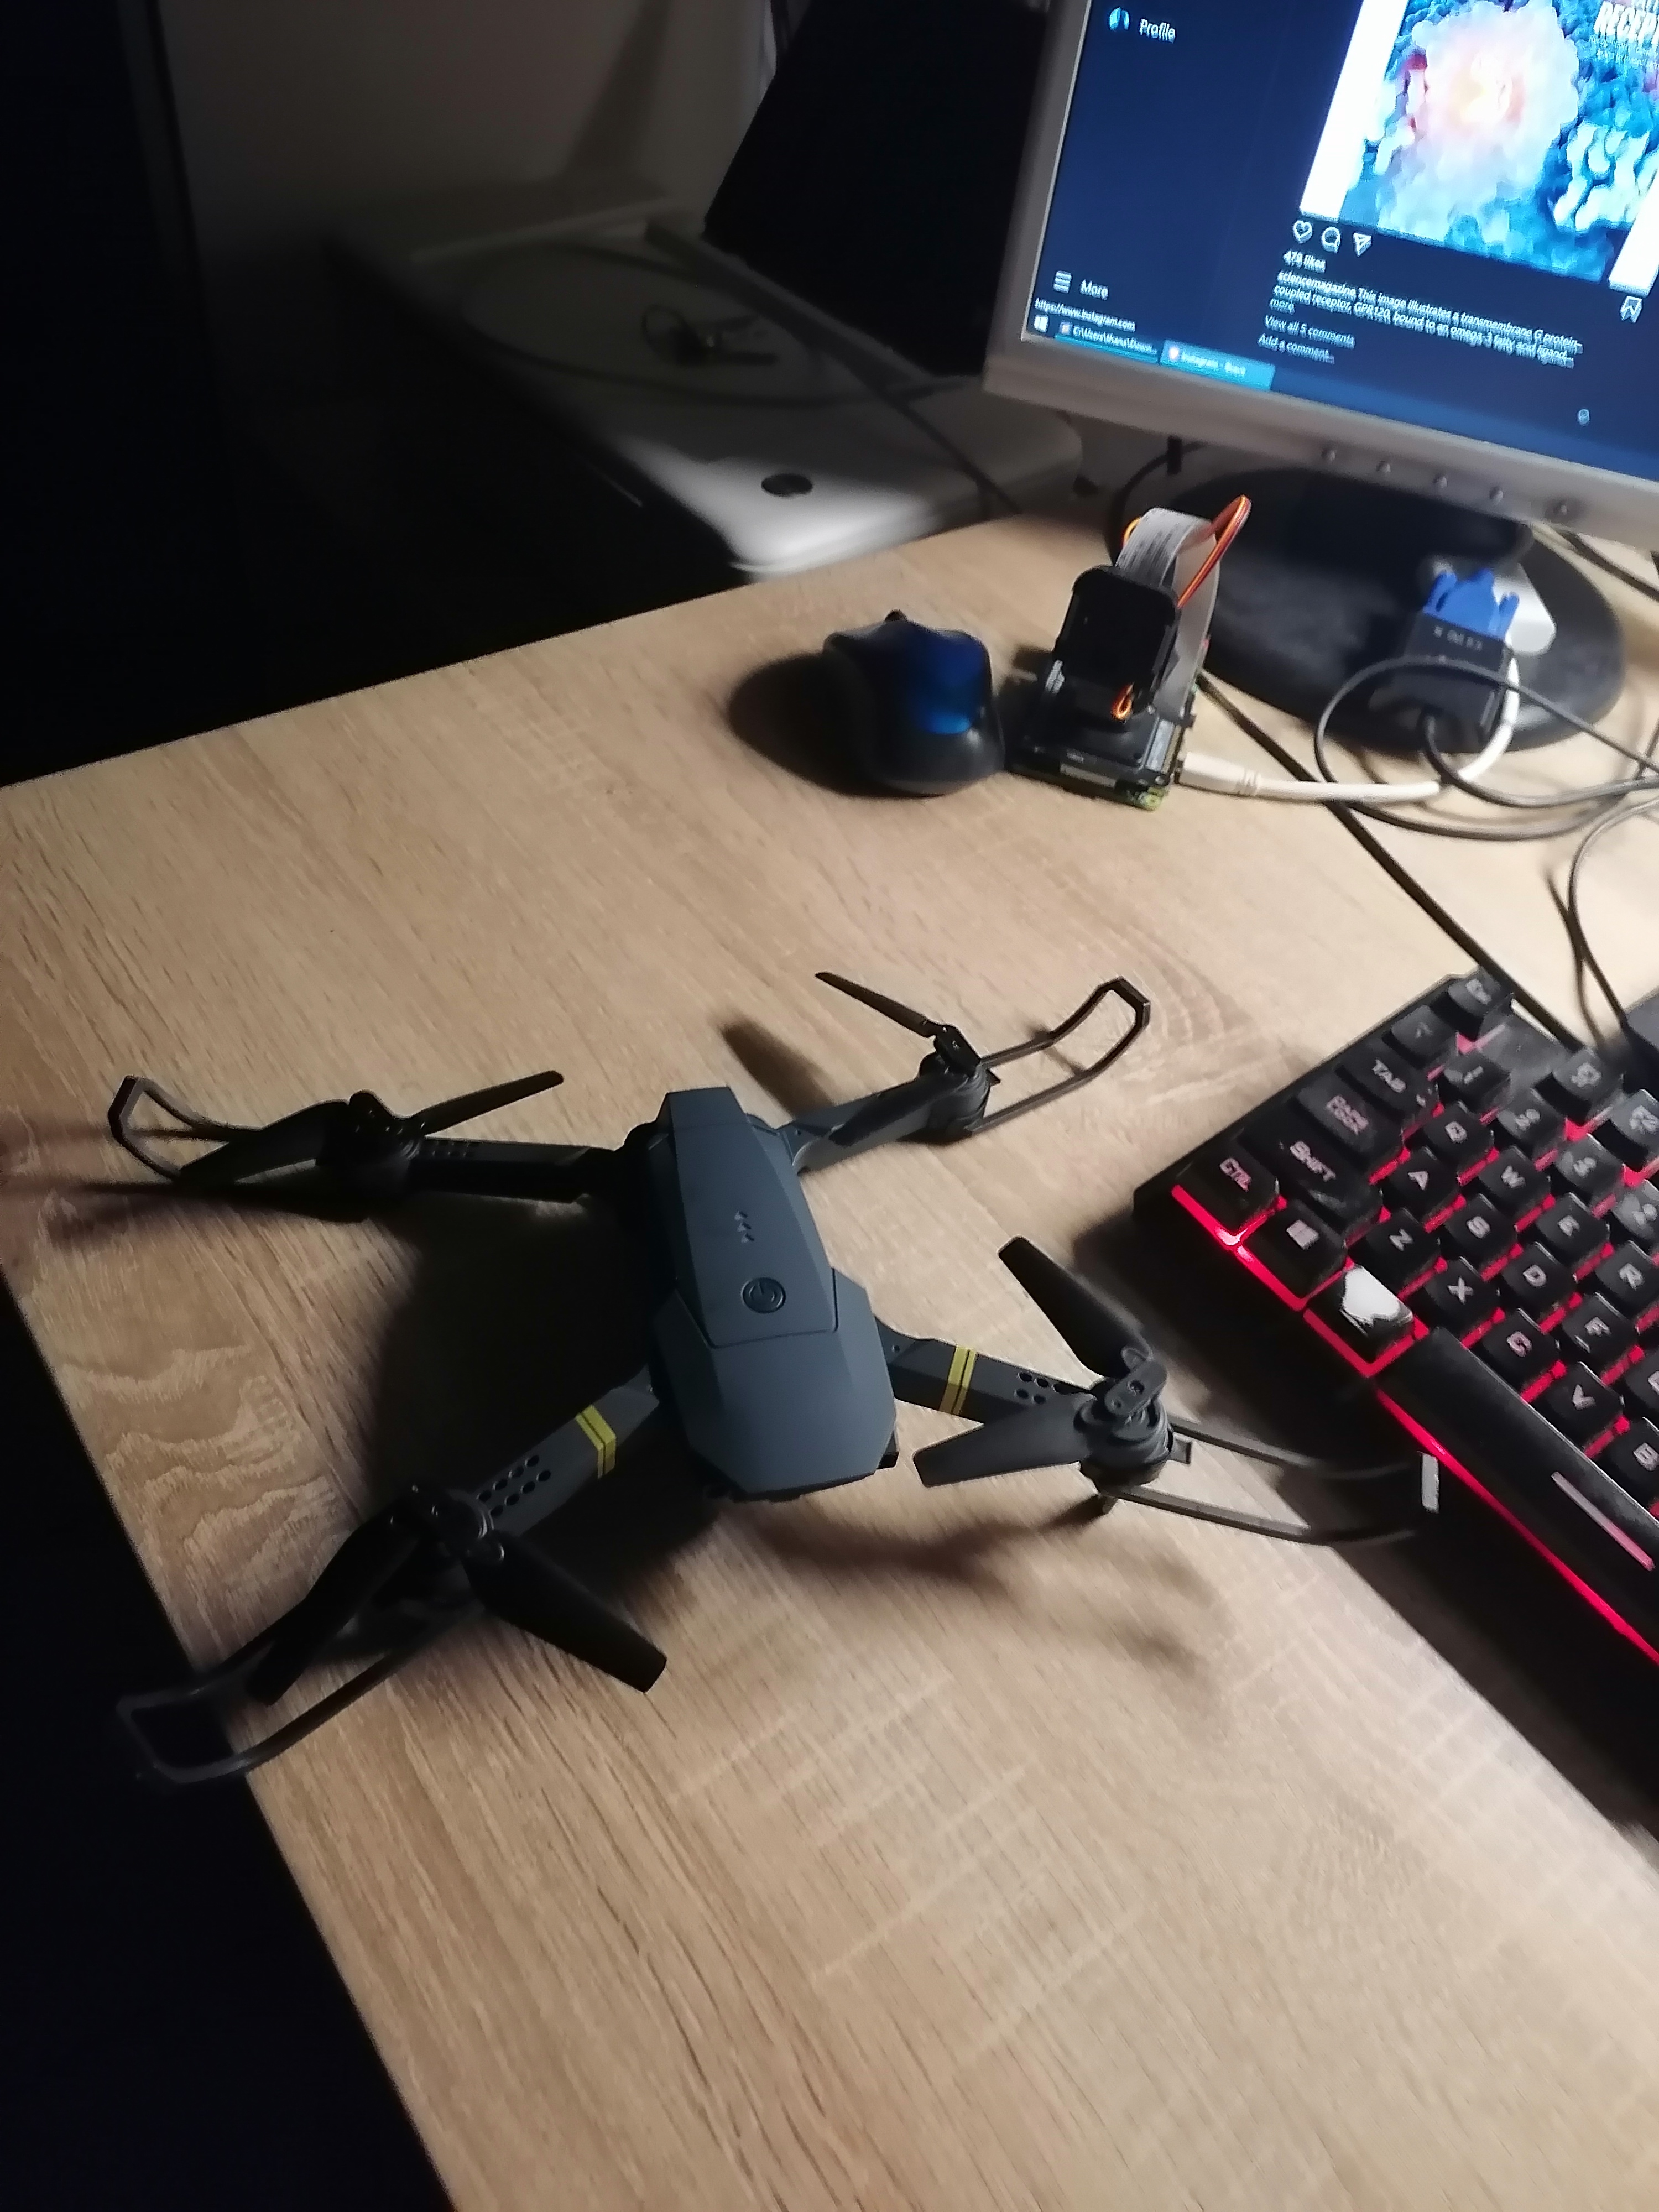drone: (68, 1036, 1457, 1797)
